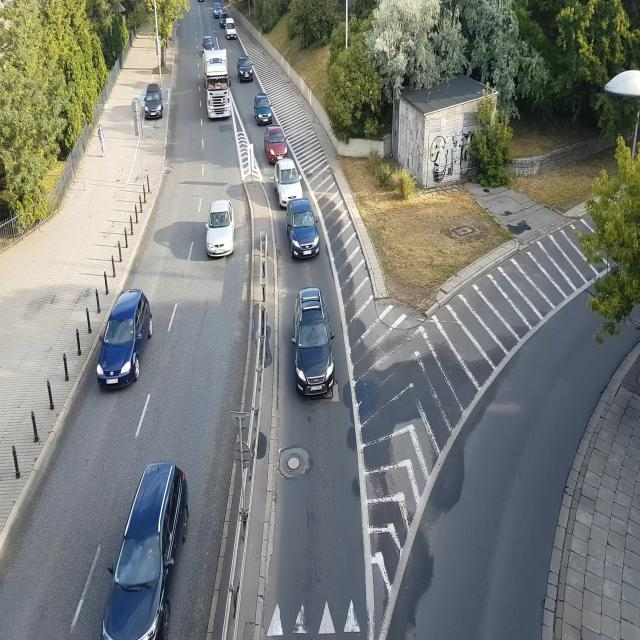car: (96, 458, 196, 640), (91, 288, 157, 388), (294, 273, 338, 398), (287, 197, 321, 259), (207, 199, 237, 257), (275, 159, 305, 210), (264, 125, 289, 163), (143, 86, 166, 118), (253, 94, 276, 123), (236, 57, 254, 81), (202, 35, 216, 49), (226, 27, 238, 40), (214, 1, 224, 13)
truck: (206, 56, 232, 117)
